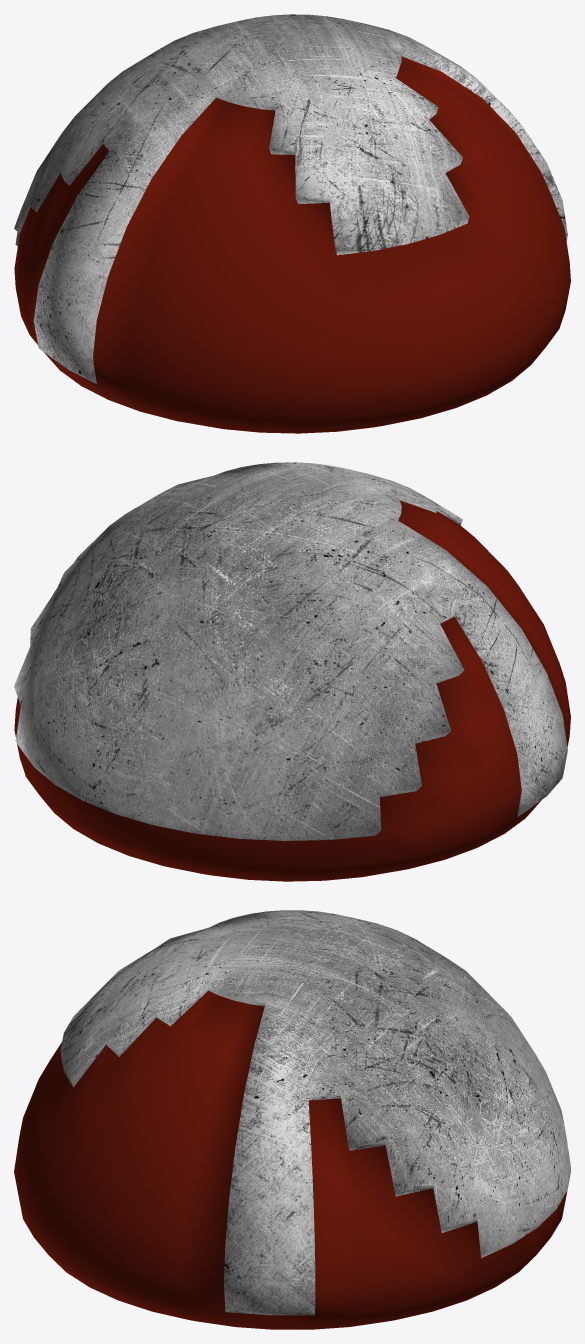
The model's file is EnemyHeavy.fbx.
3 renders of one model, top to bottom at view 1: azimuth 30°, elevation 25°; view 2: azimuth 150°, elevation 25°; view 3: azimuth 270°, elevation 25°, orthographic.
Visible parts, largest first — view 1: Sphere.010; view 2: Sphere.010; view 3: Sphere.010.
Boxes of the visible parts, x1,y1,x2,y2 form: Sphere.010: [14, 14, 570, 433]; Sphere.010: [14, 462, 570, 881]; Sphere.010: [14, 910, 570, 1329].
Bounding box in the file's own units: 226 × 130 × 220.
6 materials, 2 textured.
